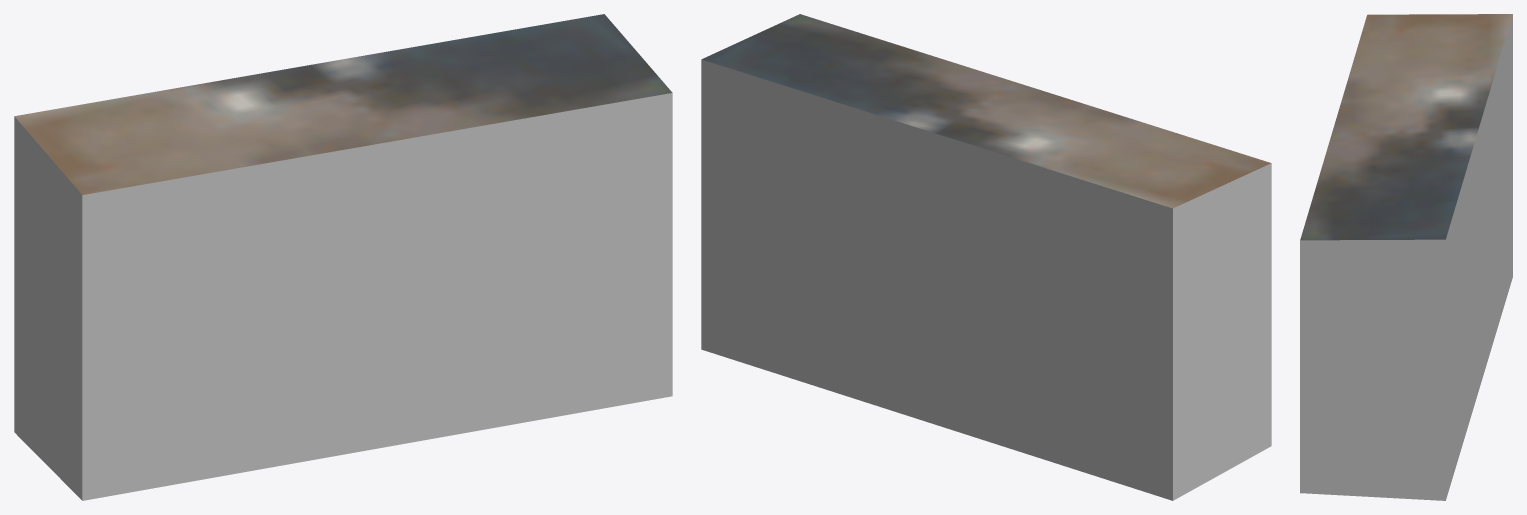
File: DEBW_0010007Tx5c.gltf
3 views of the same model, side by side, from view 1: azimuth 30°, elevation 25°; view 2: azimuth 150°, elevation 25°; view 3: azimuth 270°, elevation 25° (orthographic). The views are drawn at different scales.
Visible parts, largest first — view 1: Z_UP; view 2: Z_UP; view 3: Z_UP.
Part boxes in pixels (x1=…): Z_UP: x1=14, y1=14, x2=672, y2=500; Z_UP: x1=701, y1=14, x2=1271, y2=500; Z_UP: x1=1300, y1=14, x2=1512, y2=500.
Bounding box in the file's own units: 10.94 × 5.81 × 4.25.
Materials: 2 (1 with a texture image).
